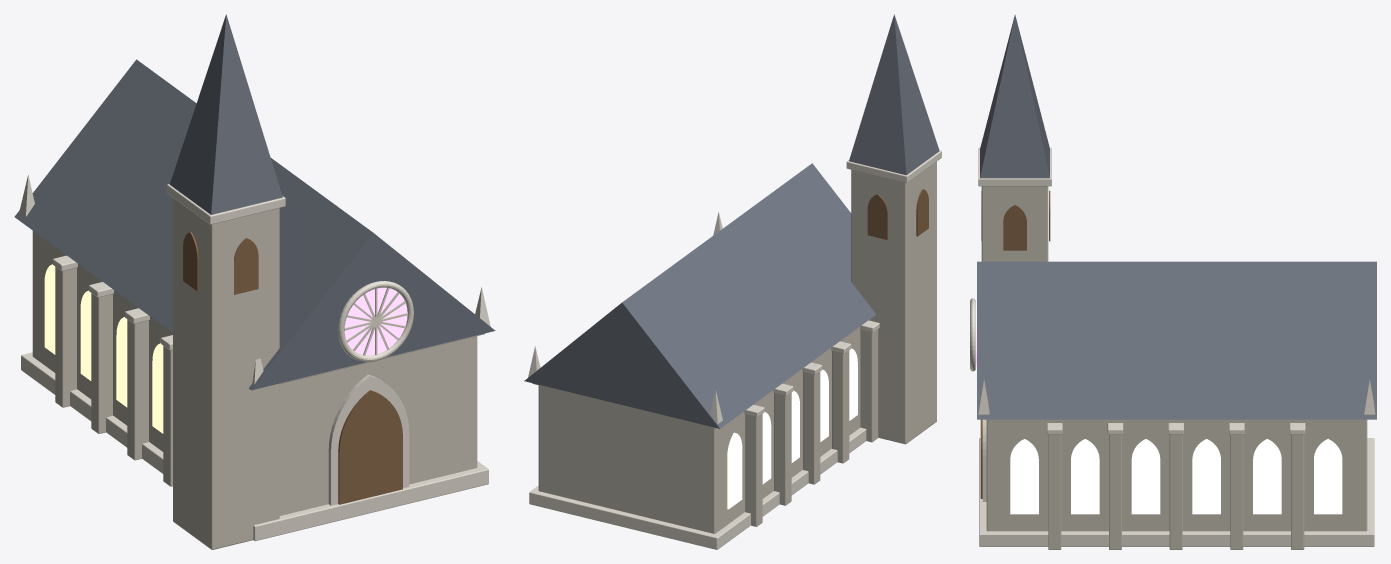
The model's file is library.glb.
The picture shows the model from 3 angles, left to right: view 1: azimuth 30°, elevation 25°; view 2: azimuth 150°, elevation 25°; view 3: azimuth 270°, elevation 25°; orthographic projection. The views are drawn at different scales.
Visible parts, largest first — view 1: Roof, Tower, Nave, Spire, Plinth, Door, Butt-1_4, Butt-1_2, Butt-1_3, DoorTrim, RoseWindow, RoseFrame (+8 smaller); view 2: Roof, Nave, Tower, Spire, Plinth, Butt-1_0, Butt-1_1, Butt-1_2, Butt-1_3, Butt-1_4, Win-1_5, TowerTrim (+6 smaller); view 3: Roof, Nave, Spire, Plinth, Tower, Win1_2, Win1_4, Win1_0, Win1_1, Win1_3, Win1_5, Butt1_0 (+6 smaller).
Boxes of the visible parts, box(x1,y1,x2,y2) form: Roof: box(14, 59, 495, 390); Tower: box(173, 198, 279, 549); Nave: box(32, 231, 477, 515); Spire: box(170, 14, 282, 214); Plinth: box(21, 352, 488, 541); Door: box(338, 390, 402, 504); Butt-1_4: box(55, 267, 76, 407); Butt-1_2: box(127, 319, 148, 460); Butt-1_3: box(91, 293, 112, 433); DoorTrim: box(328, 374, 409, 505); RoseWindow: box(344, 287, 407, 355); RoseFrame: box(338, 281, 413, 361); Roof: box(524, 163, 875, 428); Nave: box(538, 327, 860, 533); Tower: box(851, 161, 936, 444); Spire: box(849, 14, 939, 175); Plinth: box(529, 427, 866, 549); Butt-1_0: box(860, 329, 878, 442); Butt-1_1: box(832, 350, 849, 463); Butt-1_2: box(803, 372, 820, 484); Butt-1_3: box(774, 392, 791, 505); Butt-1_4: box(745, 414, 762, 526); Win-1_5: box(727, 432, 742, 509); TowerTrim: box(846, 150, 941, 183); Roof: box(977, 261, 1376, 419); Nave: box(986, 419, 1367, 531); Spire: box(980, 14, 1049, 178); Plinth: box(979, 438, 1374, 546); Tower: box(981, 186, 1048, 261); Win1_2: box(1131, 439, 1160, 514); Win1_4: box(1253, 439, 1281, 514); Win1_0: box(1010, 439, 1038, 514); Win1_1: box(1071, 439, 1099, 514); Win1_3: box(1192, 439, 1220, 514); Win1_5: box(1314, 439, 1342, 514); Butt1_0: box(1048, 434, 1061, 549).
Size of the model in its own units: 11.82 by 20.1 by 17.09.
